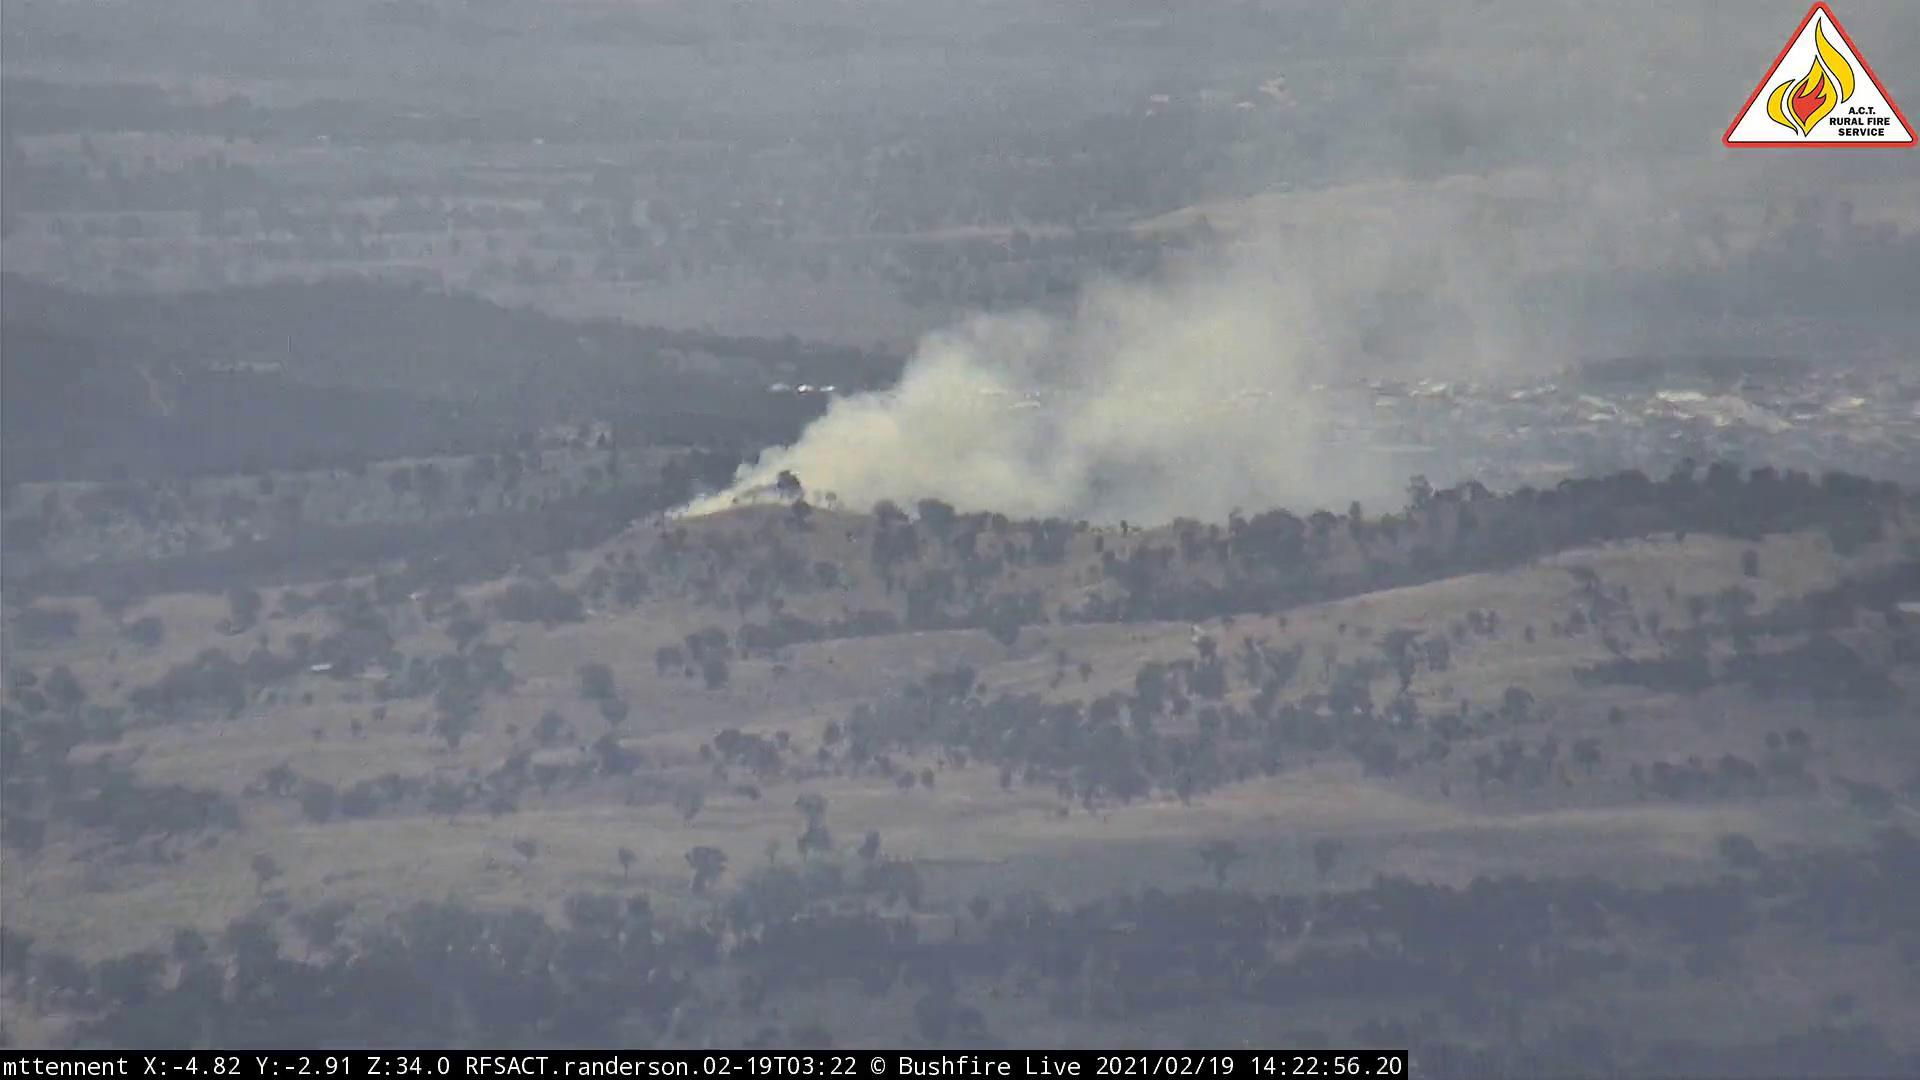Smoke: (636, 119, 1578, 553)
